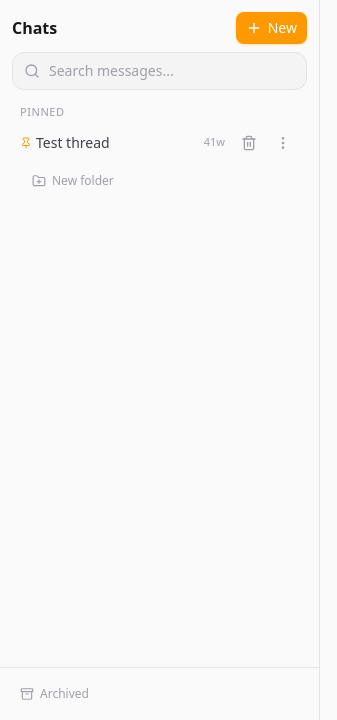
ThreadSidebar action menu › shows Unpin instead of Pin when the thread is pinned
The image size is (337, 720).
Click the button titled "Actions" at (283, 142), box x1=267 y1=132 x2=299 y2=152
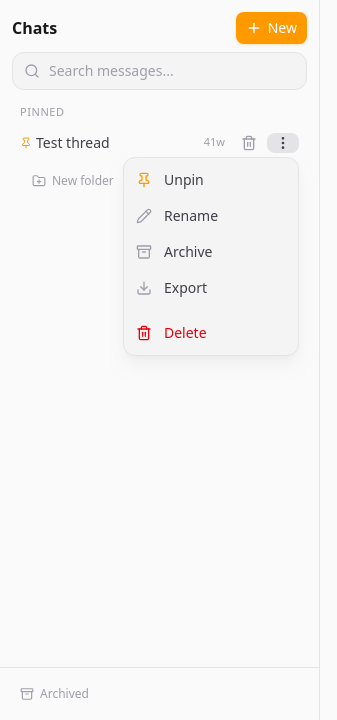
Now the button "Unpin" is shown, box x1=124 y1=162 x2=298 y2=198
